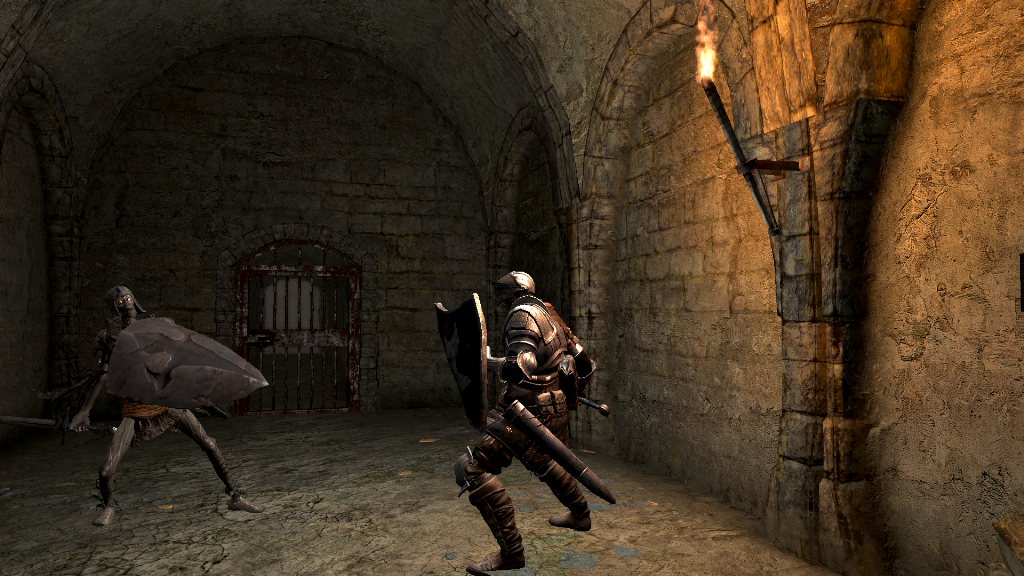player: (432, 267, 610, 576)
undeadSoldier: (71, 282, 266, 526)
